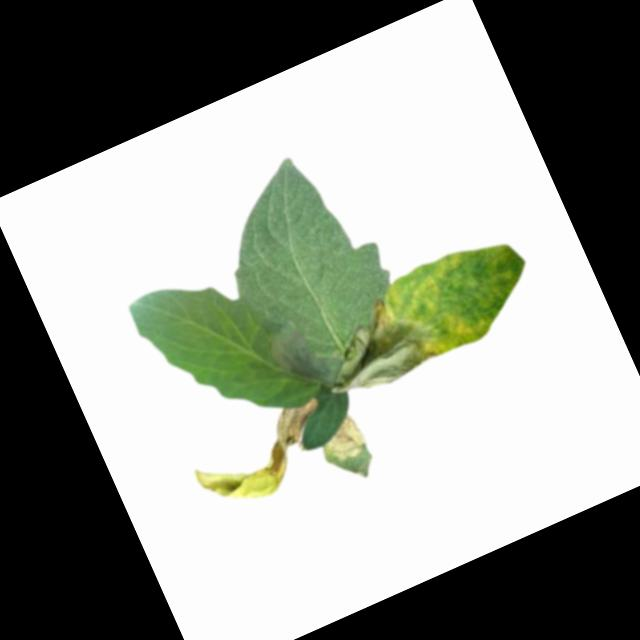Late_blight: (180, 393, 343, 521), (308, 287, 440, 404), (256, 305, 350, 406), (314, 409, 369, 467)
